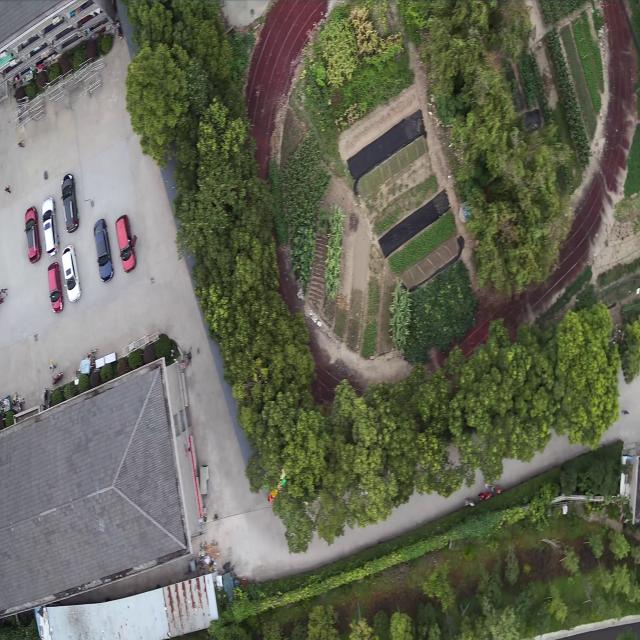UAV: (93, 517, 109, 535)
